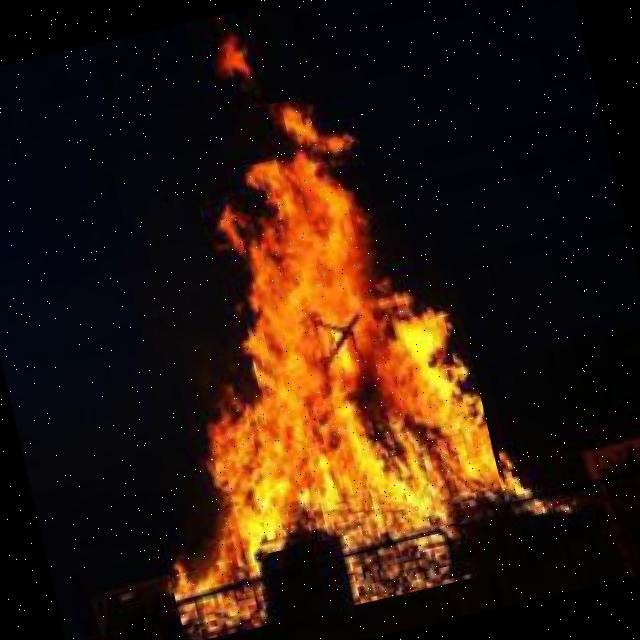fire: (71, 72, 519, 640)
